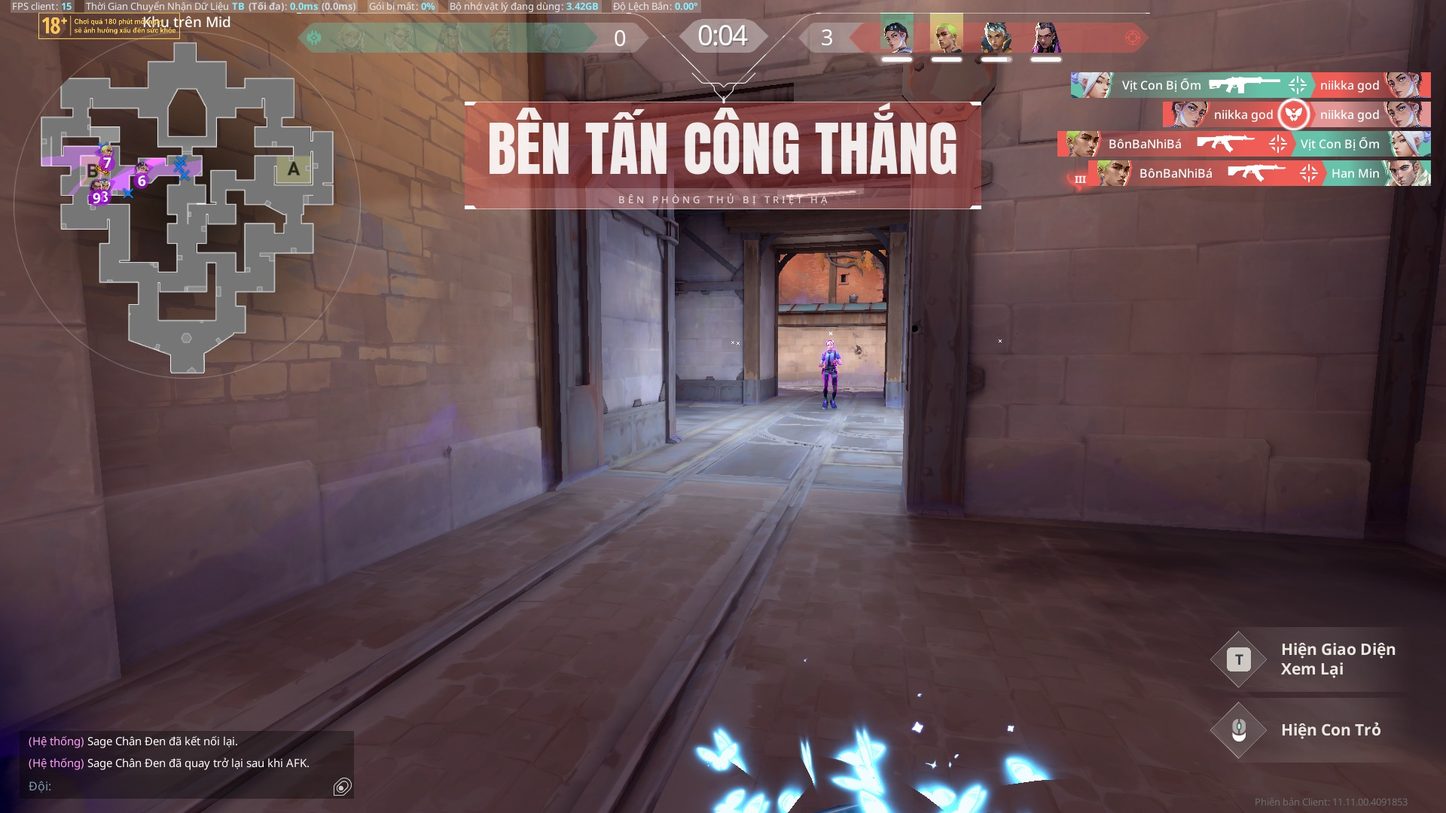body: (822, 348, 840, 373)
head: (826, 339, 835, 350)
